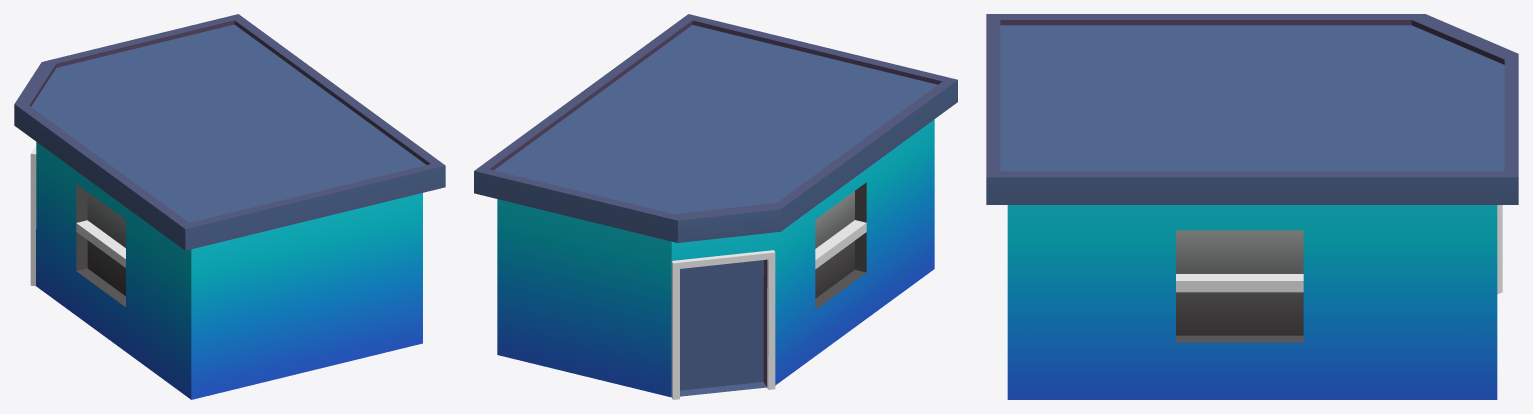
The model's file is Lvl4_Home.fbx.
3 views of the same model, side by side, from view 1: azimuth 30°, elevation 25°; view 2: azimuth 150°, elevation 25°; view 3: azimuth 270°, elevation 25° (orthographic). The views are drawn at different scales.
Parts seen in each view (by area): view 1: Lvl4_Home; view 2: Lvl4_Home; view 3: Lvl4_Home.
Part boxes in pixels (x1,y1,x2,y2): Lvl4_Home: [14, 14, 445, 399]; Lvl4_Home: [474, 14, 957, 399]; Lvl4_Home: [986, 14, 1518, 399].
Bounding box in the file's own units: 270 × 179 × 372.
